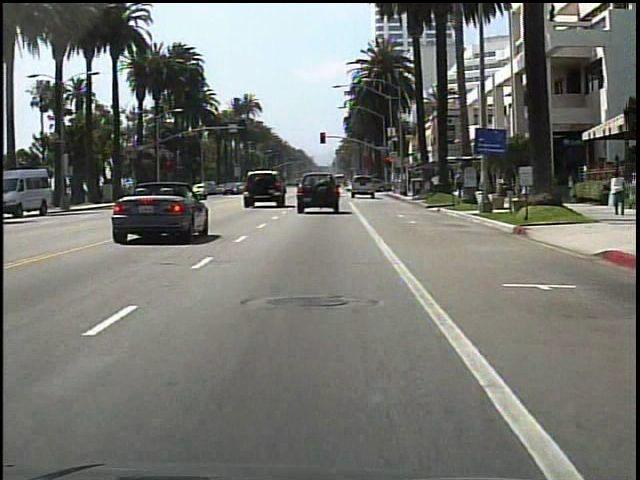person: (606, 168, 625, 217), (429, 171, 443, 196)
